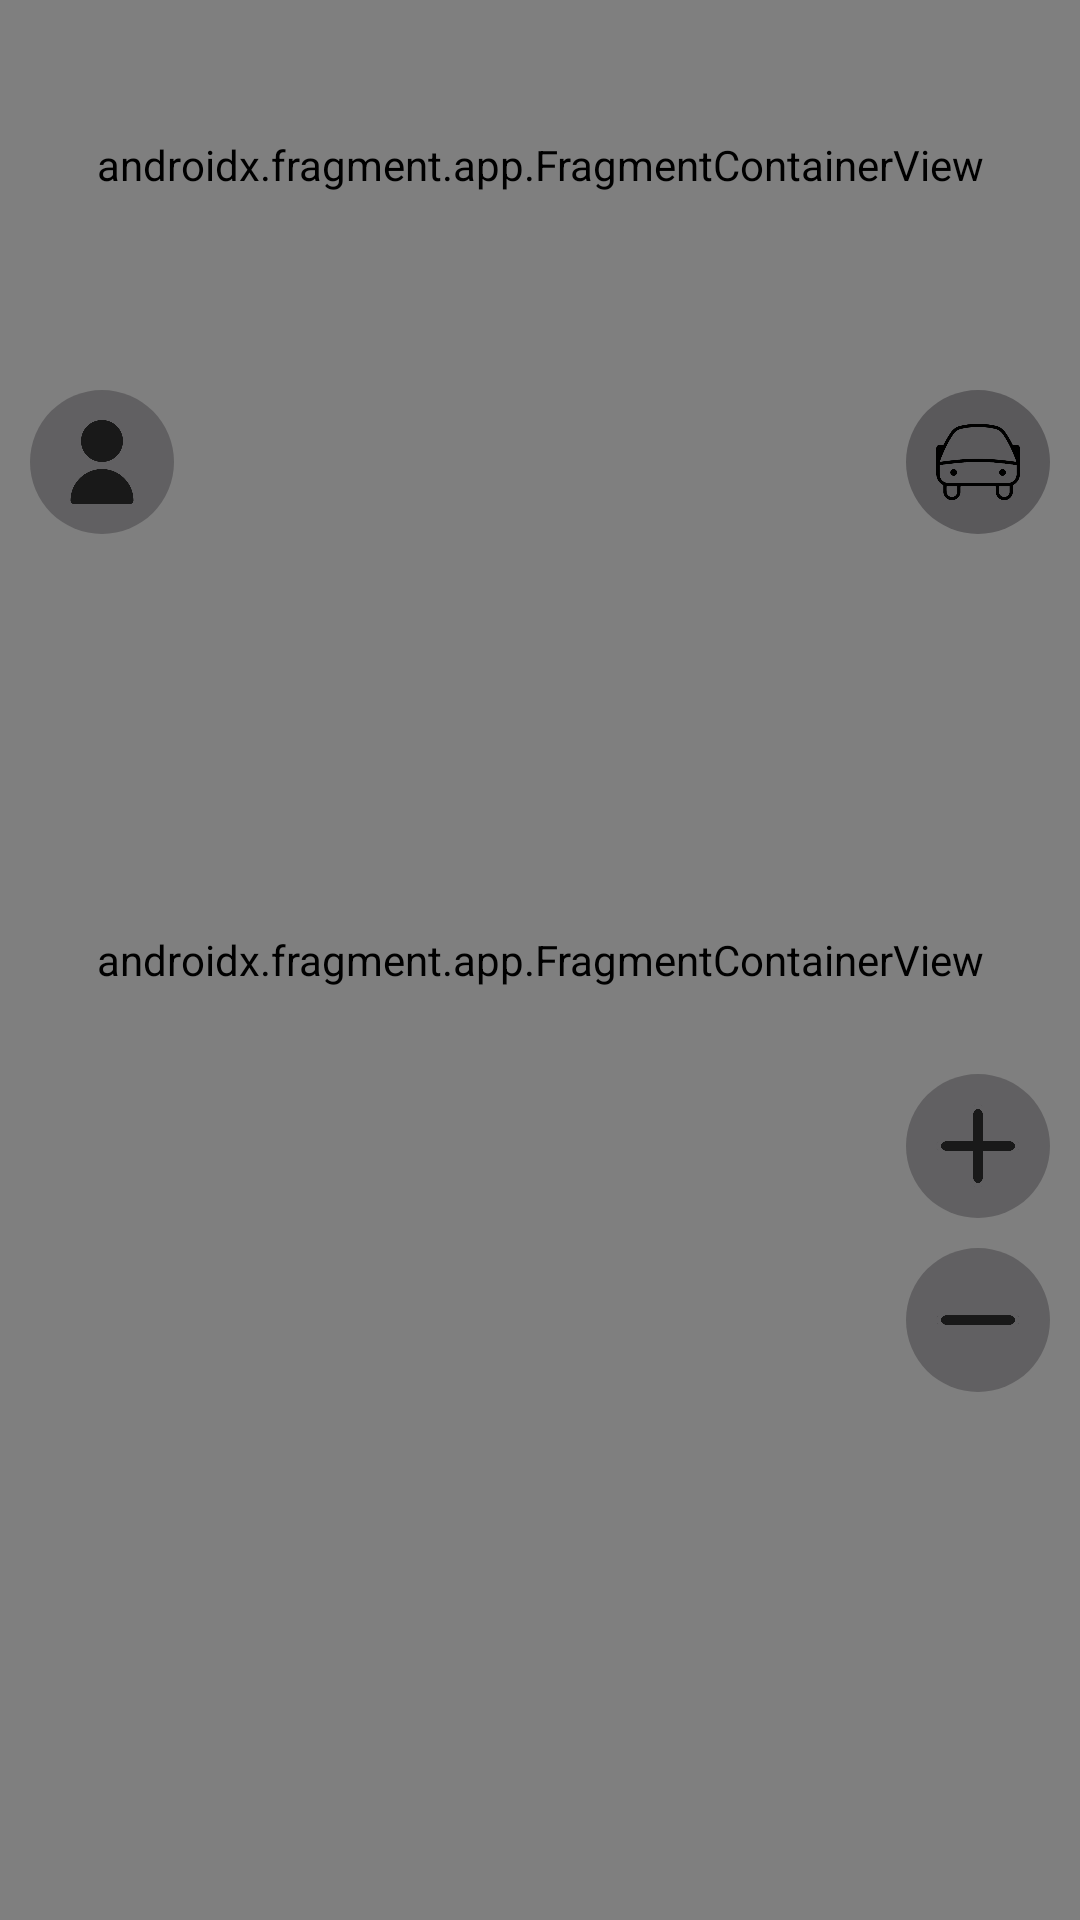

Point at icon controls on the screen. Image size 1080x1920, points as point (x, y).
Дорожный трафик: point (978, 462)
Минус: point (978, 1320)
Плюс: point (978, 1146)
Пользователь: point (102, 462)
